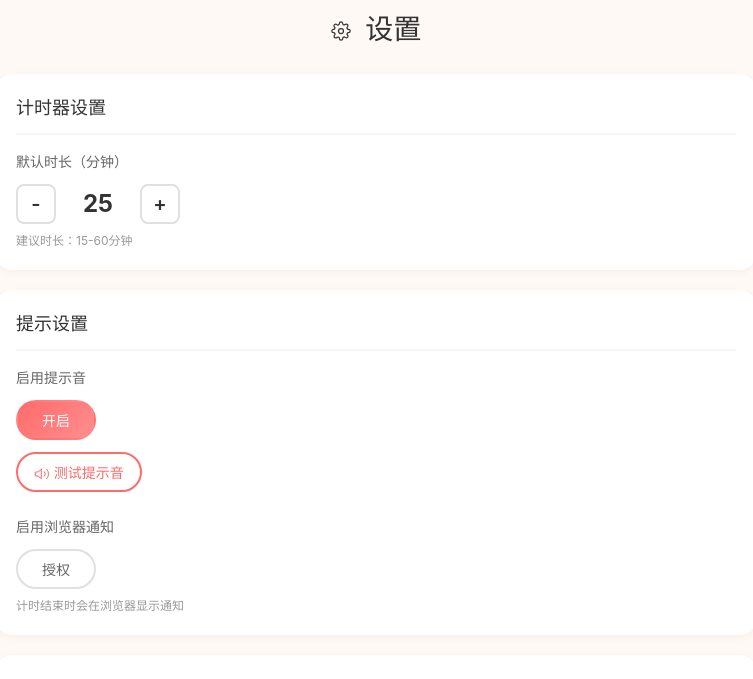
Scenario: Settings Component › 提示音设置 › 应该能切换提示音
The image size is (753, 679).
What coordinates should you click on to do the following:
click the button "开启"
I would click on:
 (56, 420)
Its box is 16,400 -> 96,440.
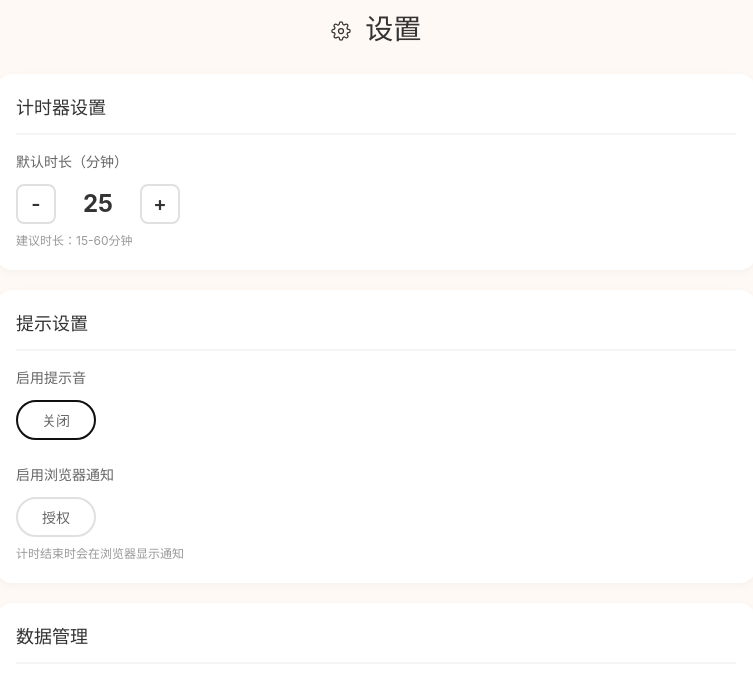
Check: the button "关闭" is shown, box 16,400 -> 96,440
